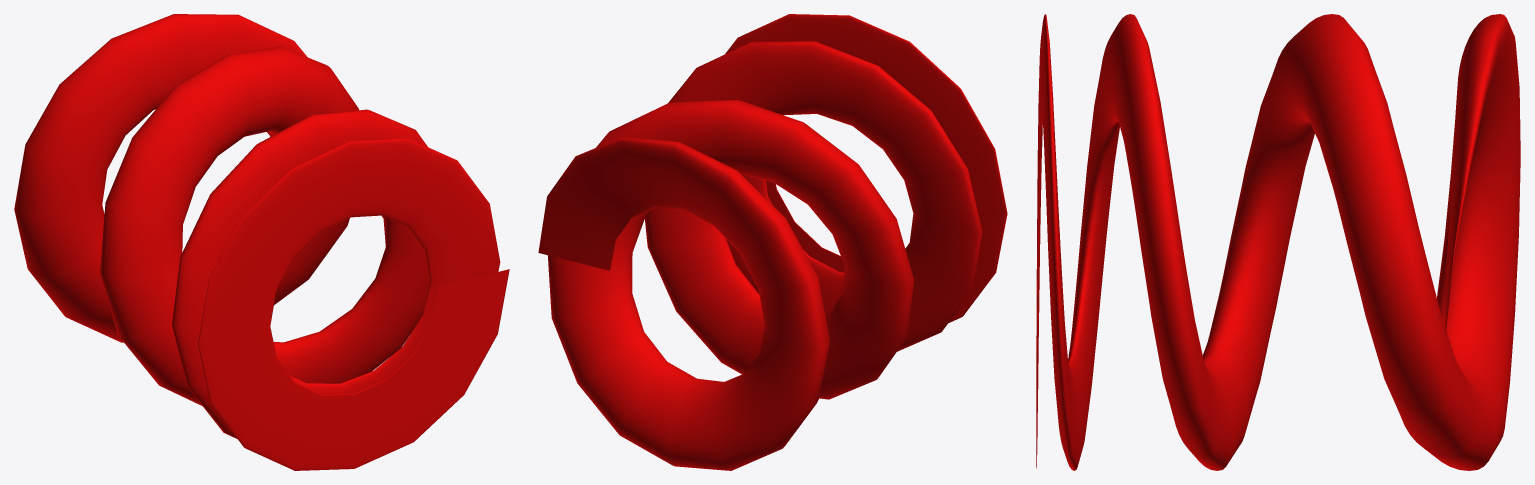
The model's file is Spring.fbx.
3 renders of one model, left to right at view 1: azimuth 30°, elevation 25°; view 2: azimuth 150°, elevation 25°; view 3: azimuth 270°, elevation 25°, orthographic. The views are drawn at different scales.
Parts seen in each view (by area): view 1: Circle; view 2: Circle; view 3: Circle.
Boxes of the visible parts, x1,y1,x2,y2 form: Circle: [14, 14, 509, 470]; Circle: [538, 14, 1007, 470]; Circle: [1036, 14, 1520, 470].
Size of the model in its own units: 864 by 864 by 916.
